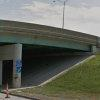Bridge: (5, 9, 100, 79)
